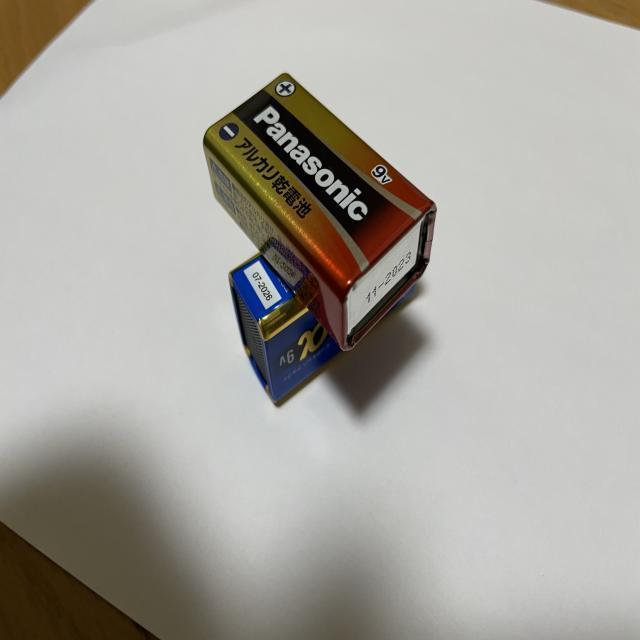9V: (202, 71, 437, 352), (228, 248, 419, 406)
